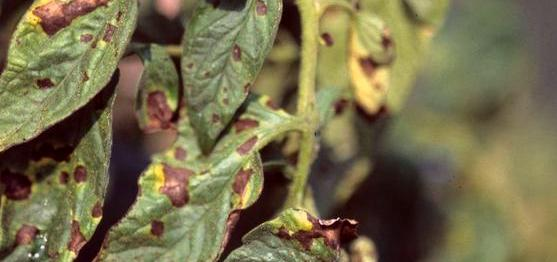Tomato Early blight leaf: (88, 110, 275, 262), (0, 0, 168, 159), (176, 0, 284, 159), (0, 94, 99, 262)
